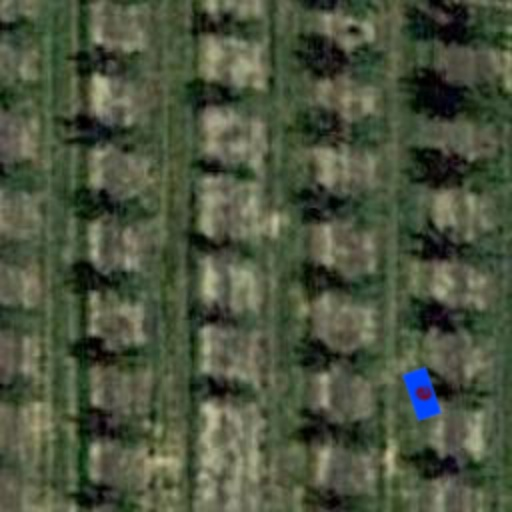rectangle: (390, 362, 454, 426)
